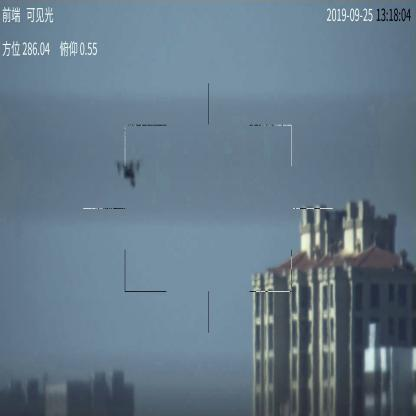uav: (117, 157, 142, 188)
